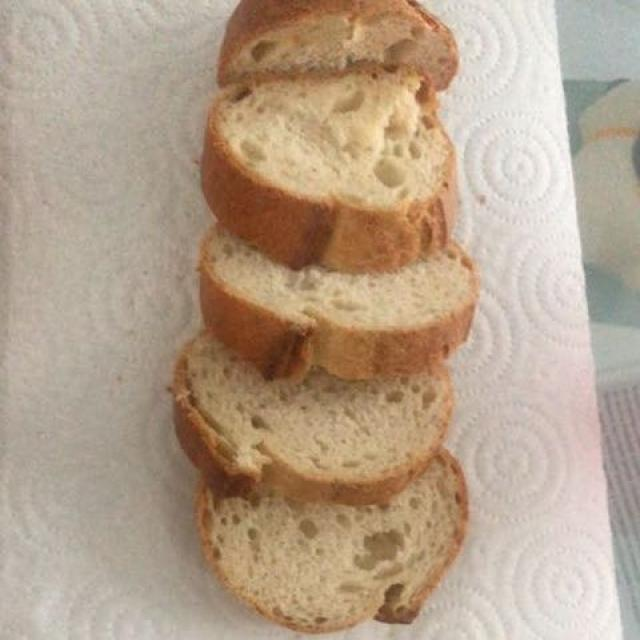bread: (185, 9, 494, 617)
